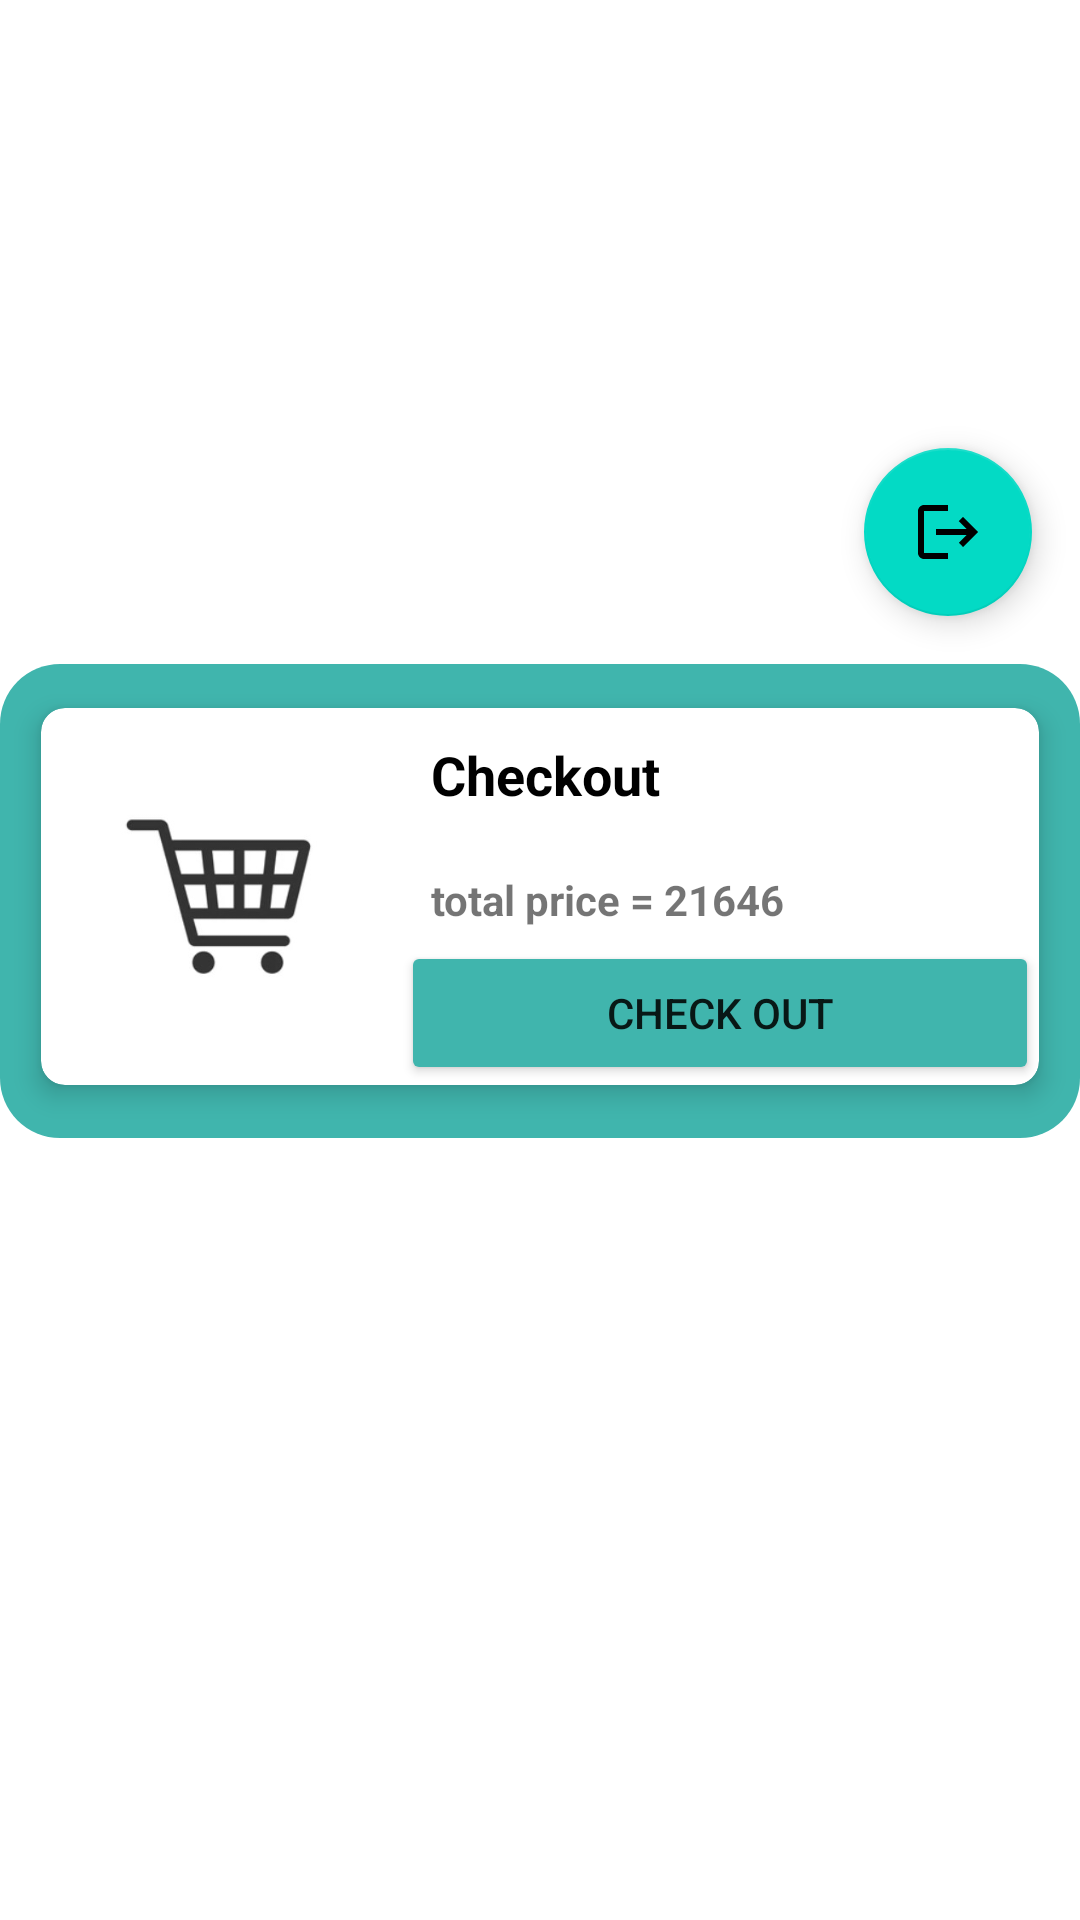

Named icons in this screenshot (1080×1920) and their bounding boxes, (x1, y1, x2, y2):
cart: (126, 819, 311, 974)
